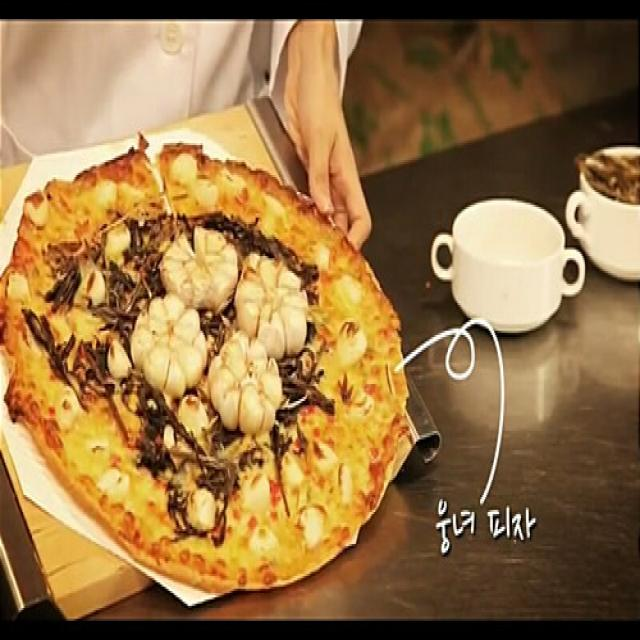Dry Waste: (427, 184, 603, 348)
Wet Waste: (0, 137, 410, 598)
